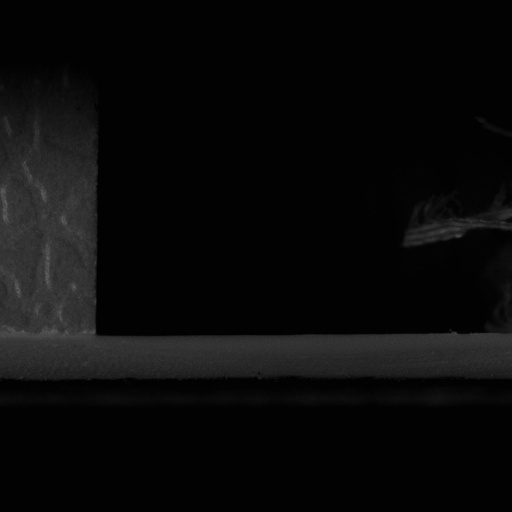changdai: (92, 330, 511, 384)
